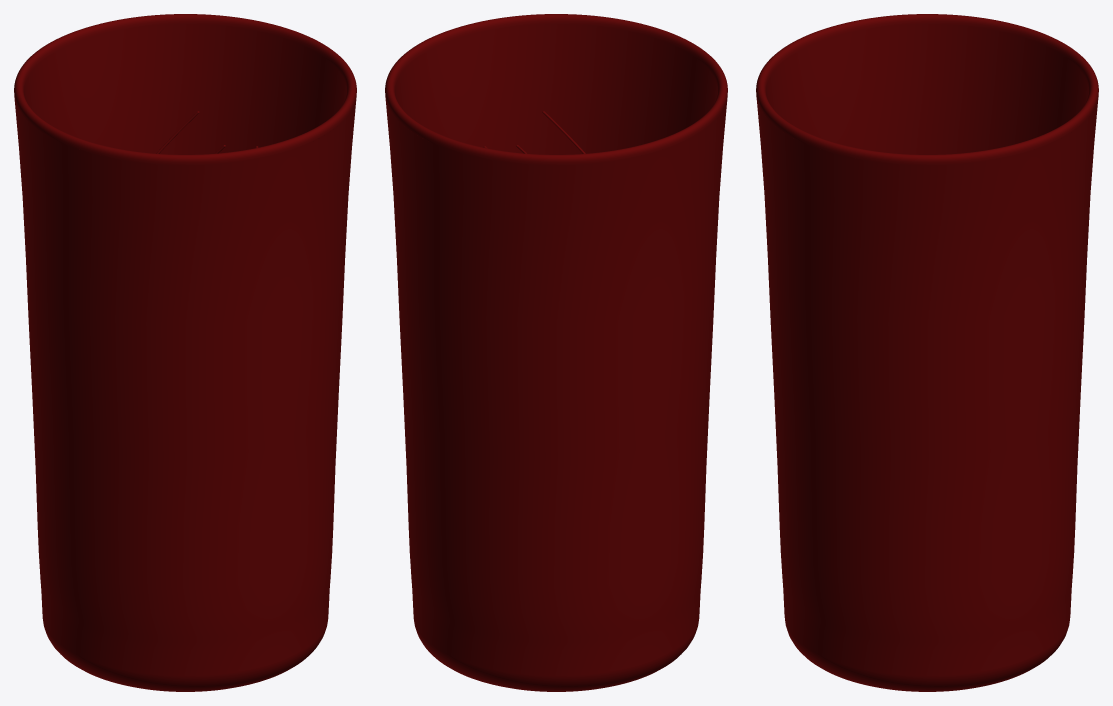
File: tulip80-3.glb
3 views of the same model, side by side, from view 1: azimuth 30°, elevation 25°; view 2: azimuth 150°, elevation 25°; view 3: azimuth 270°, elevation 25° (orthographic).
Bounding box in the file's own units: 0.069 × 0.1237 × 0.069.
